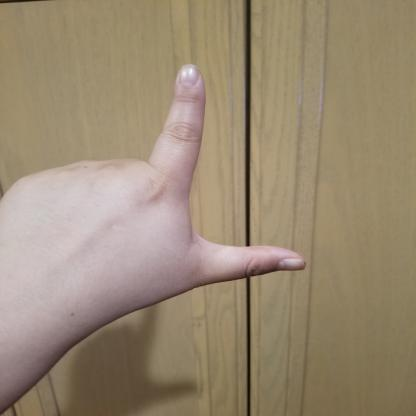L: (0, 58, 315, 332)
